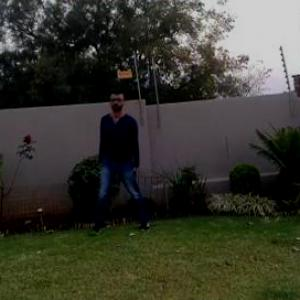follow: (102, 87, 152, 244)
